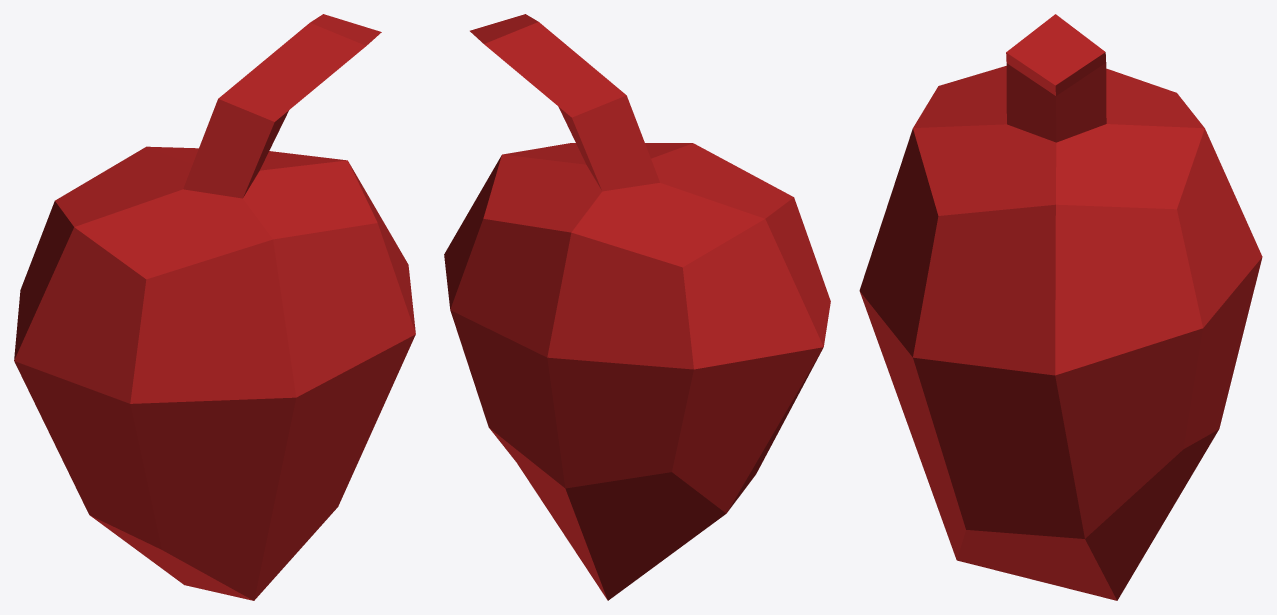
Rendered from Strawberry.fbx.
The picture shows the model from 3 angles, left to right: view 1: azimuth 30°, elevation 25°; view 2: azimuth 150°, elevation 25°; view 3: azimuth 270°, elevation 25°; orthographic projection. The views are drawn at different scales.
Visible parts, largest first — view 1: strawberry; view 2: strawberry; view 3: strawberry.
Part boxes in pixels (x1,y1,x2,y2): strawberry: (14,14,415,600); strawberry: (444,14,830,600); strawberry: (859,14,1262,600).
Size of the model in its own units: 564 by 763 by 434.
